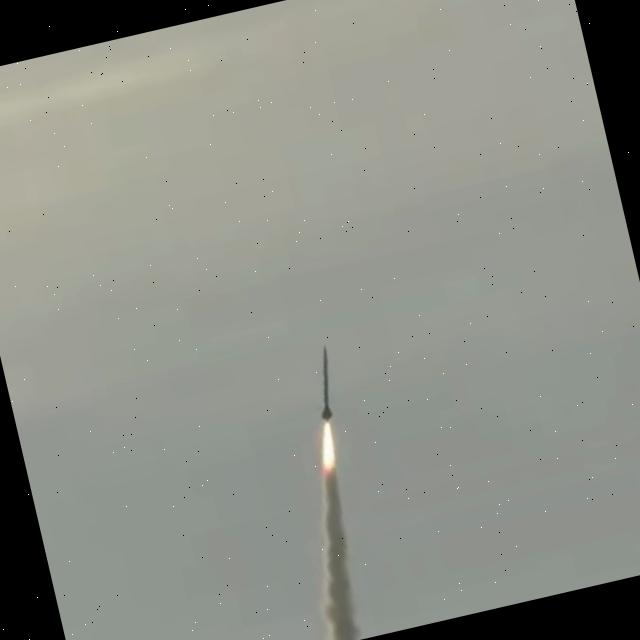rocket: (305, 345, 342, 419)
smoke_trail_with_rocket: (317, 348, 358, 640)
